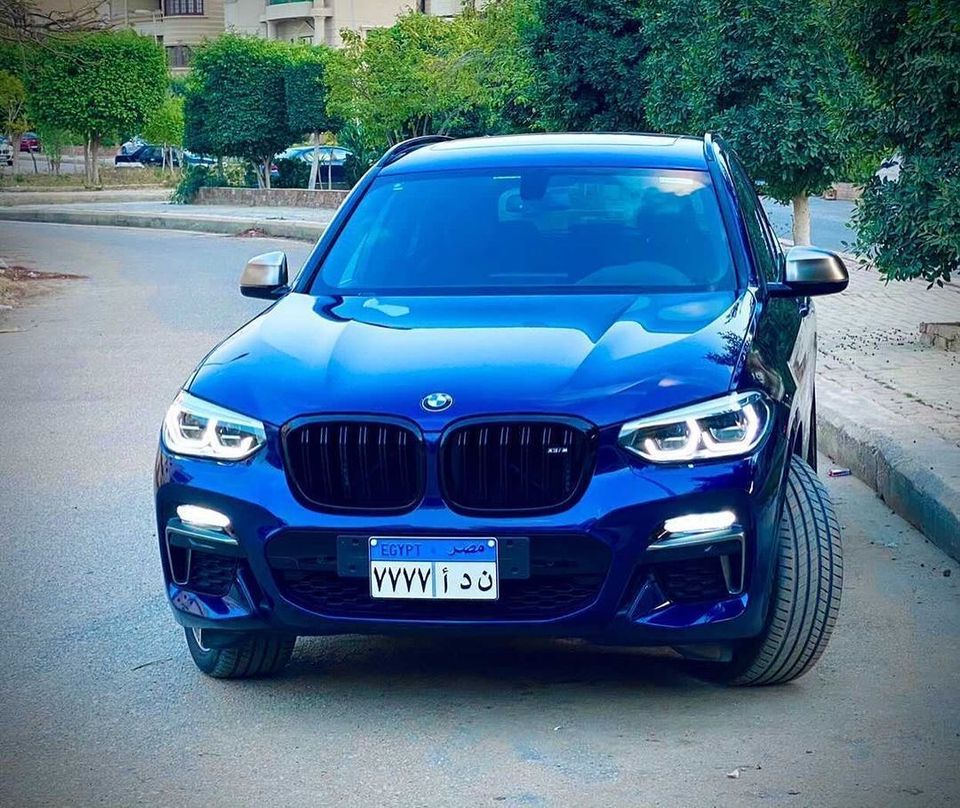carpl: (346, 536, 520, 614)
